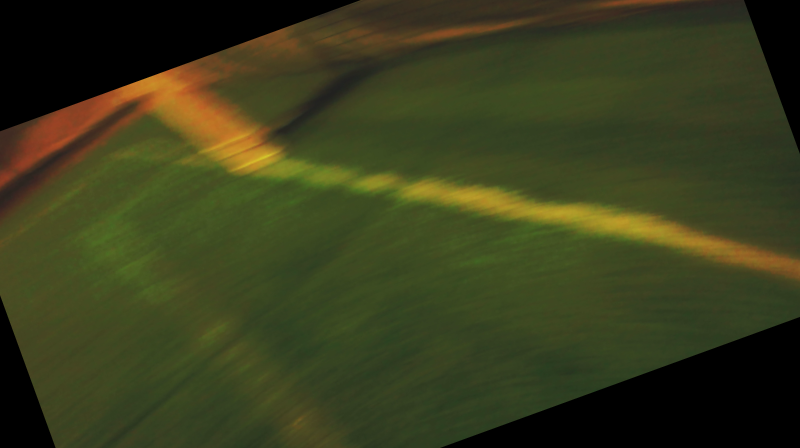post: (176, 128, 306, 190)
